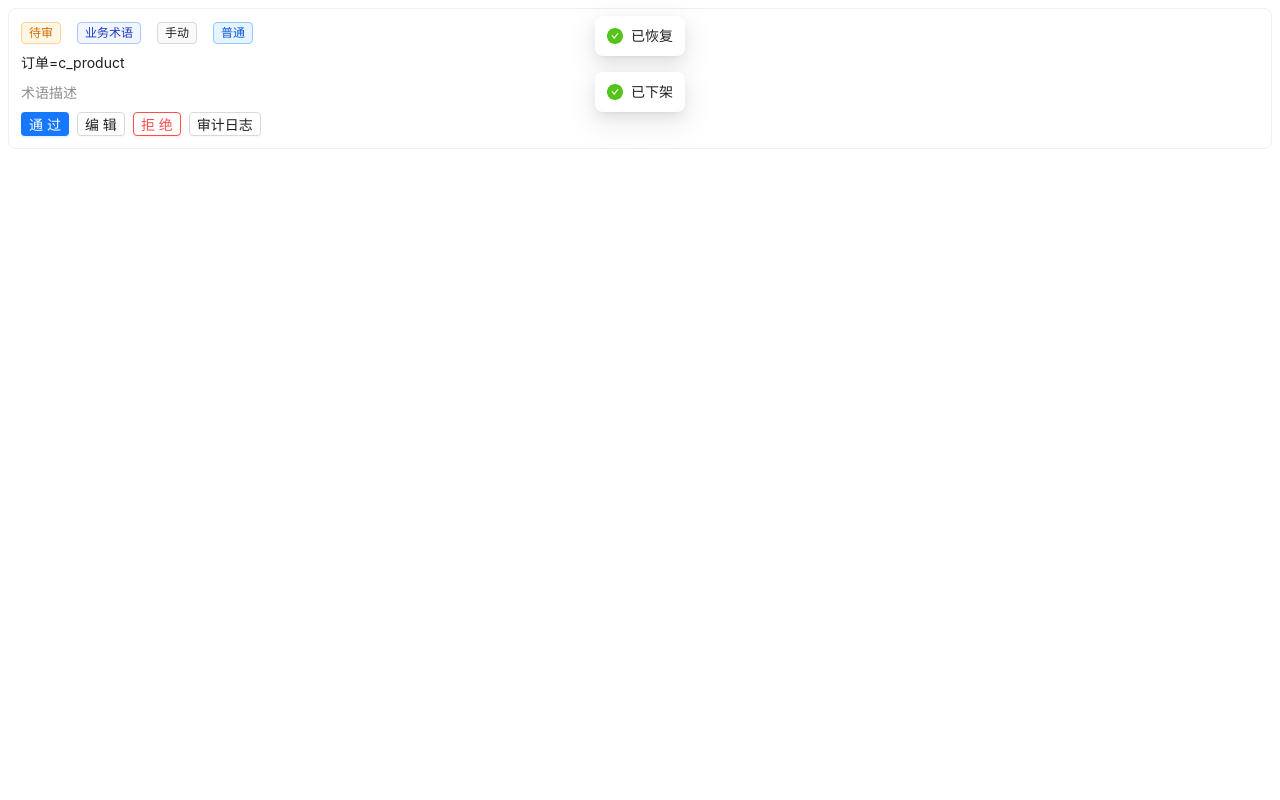
Scenario: AuditCard — modals › 点击 审计日志 → 打开 Modal
Click the button "审计日志" at (225,124), box [189,112,261,136]
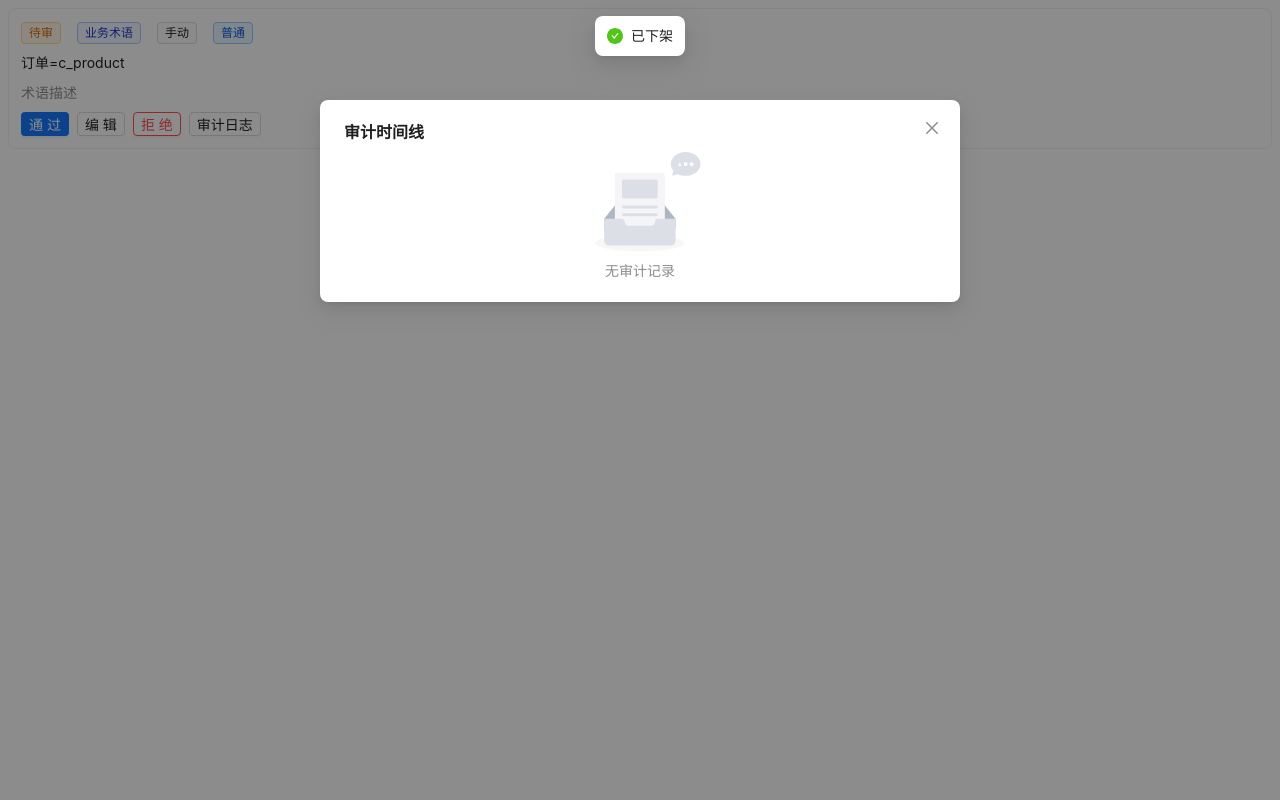
Check: the text "审计时间线" is shown, box [344,122,424,142]
